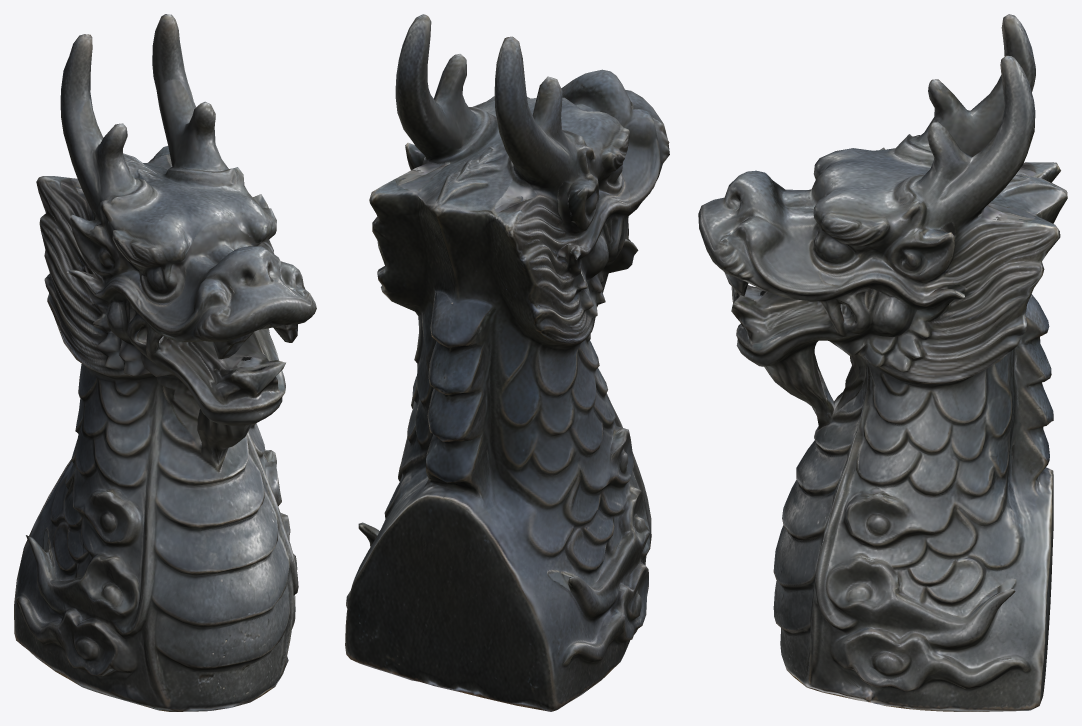
Rendered from chwidu.fbx.
3 views of the same model, side by side, from view 1: azimuth 30°, elevation 25°; view 2: azimuth 150°, elevation 25°; view 3: azimuth 270°, elevation 25° (orthographic). The views are drawn at different scales.
Visible parts, largest first — view 1: texture_mapping; view 2: texture_mapping; view 3: texture_mapping.
Boxes of the visible parts, left/top/right/bottom form: texture_mapping: left=14, top=14, right=316, bottom=711; texture_mapping: left=345, top=14, right=669, bottom=711; texture_mapping: left=698, top=14, right=1067, bottom=711.
Bounding box in the file's own units: 0.3784 × 0.5341 × 1.
Materials: 1 (1 with a texture image).
